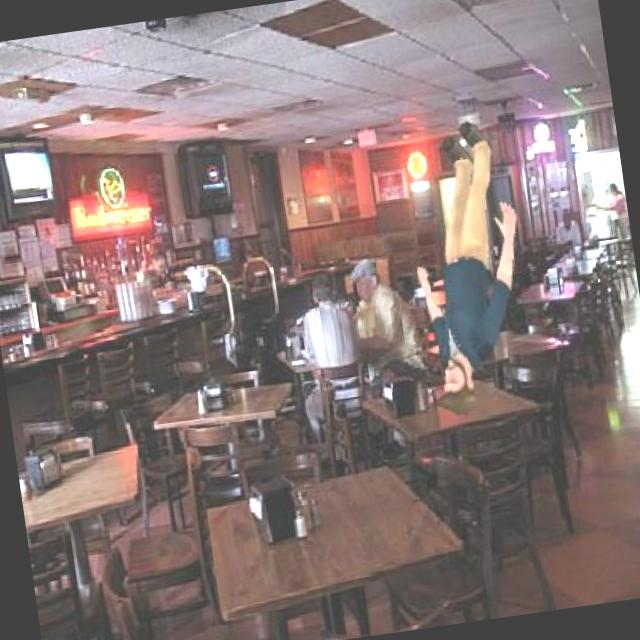Person: (398, 116, 544, 415)
